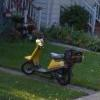Motorcycle: (16, 30, 77, 88)
